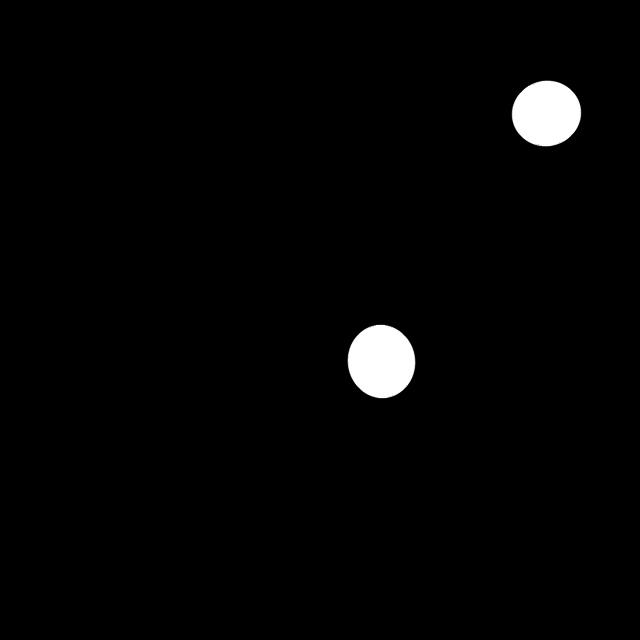Circle: (342, 318, 423, 408), (505, 74, 587, 153)
